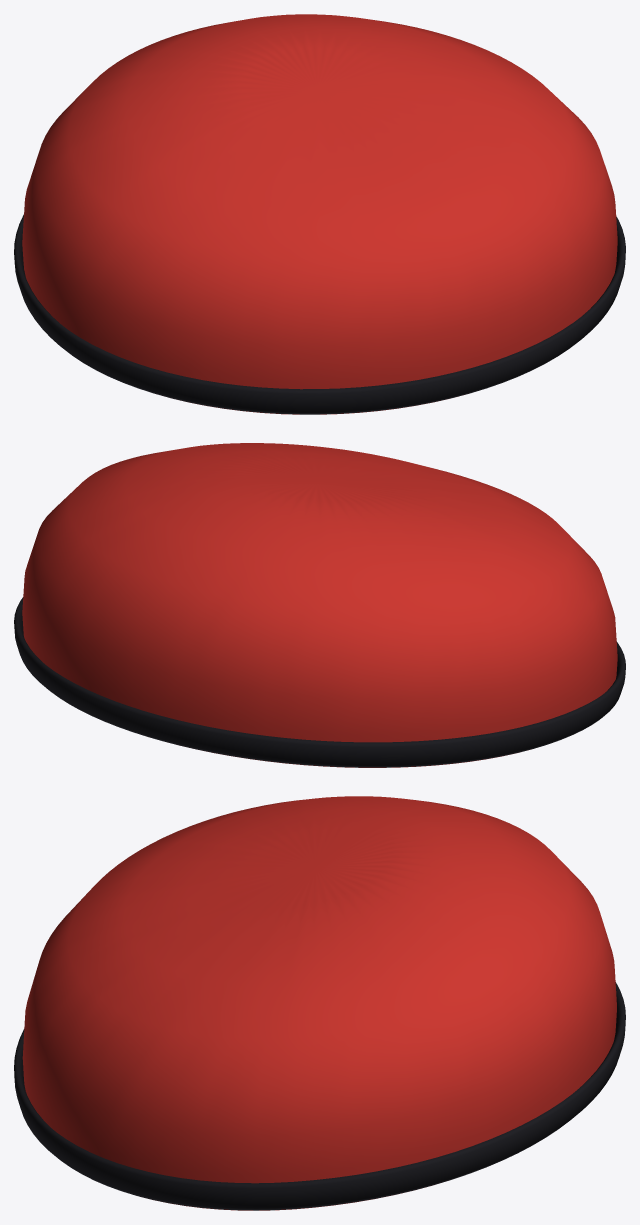
File: hw_svan.glb
3 views of the same model, one above another, from view 1: azimuth 30°, elevation 25°; view 2: azimuth 150°, elevation 25°; view 3: azimuth 270°, elevation 25° (orthographic). The views are drawn at different scales.
Parts seen in each view (by area): view 1: hw_svan, hw_svan_border; view 2: hw_svan, hw_svan_border; view 3: hw_svan, hw_svan_border.
Boxes of the visible parts, left/top/right/bottom form: hw_svan: left=22, top=14, right=617, bottom=414; hw_svan_border: left=14, top=214, right=625, bottom=414; hw_svan: left=22, top=443, right=617, bottom=767; hw_svan_border: left=14, top=597, right=625, bottom=767; hw_svan: left=22, top=796, right=616, bottom=1210; hw_svan_border: left=14, top=982, right=625, bottom=1210.
Bounding box in the file's own units: 0.8526 × 0.3365 × 0.7665.
